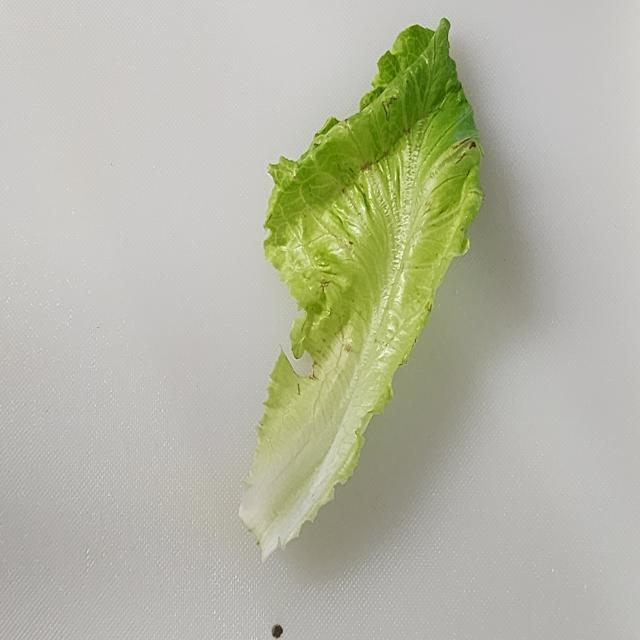lettuce: (237, 16, 485, 563)
